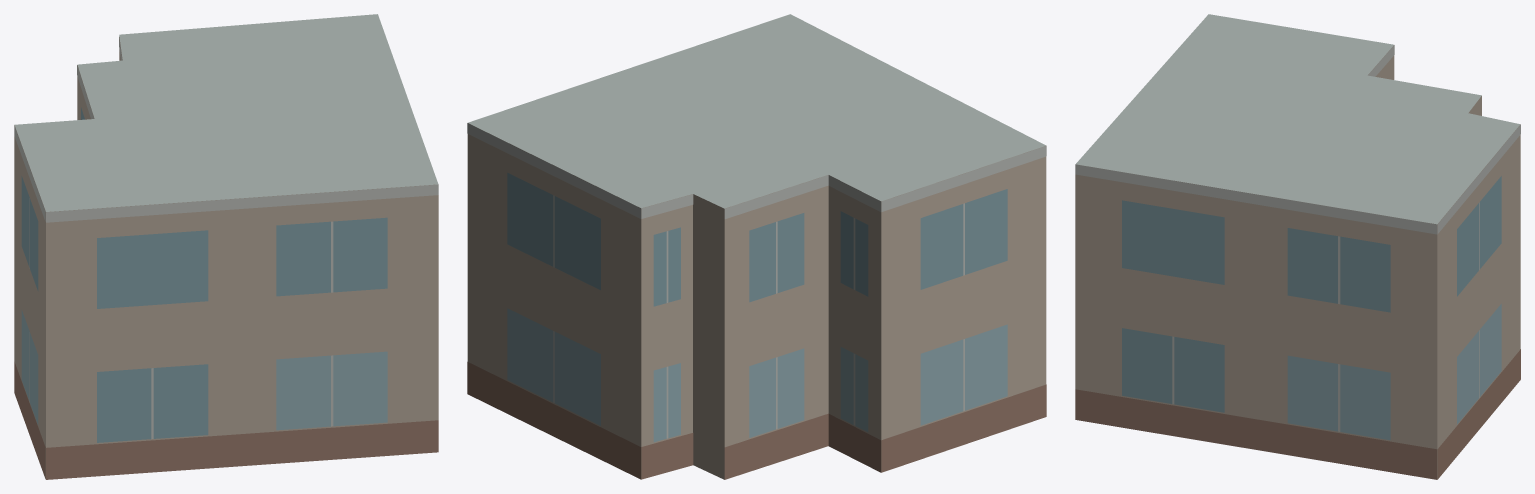
The model's file is survey-upis-32553443.glb.
3 renders of one model, left to right at view 1: azimuth 30°, elevation 25°; view 2: azimuth 150°, elevation 25°; view 3: azimuth 270°, elevation 25°, orthographic. The views are drawn at different scales.
Visible parts, largest first — view 1: survey-upis-32553443.tmp; view 2: survey-upis-32553443.tmp; view 3: survey-upis-32553443.tmp.
Boxes of the visible parts, x1,y1,x2,y2 form: survey-upis-32553443.tmp: [14, 14, 438, 479]; survey-upis-32553443.tmp: [467, 14, 1046, 479]; survey-upis-32553443.tmp: [1075, 14, 1520, 479].
Bounding box in the file's own units: 10.78 × 6.1 × 9.64.
